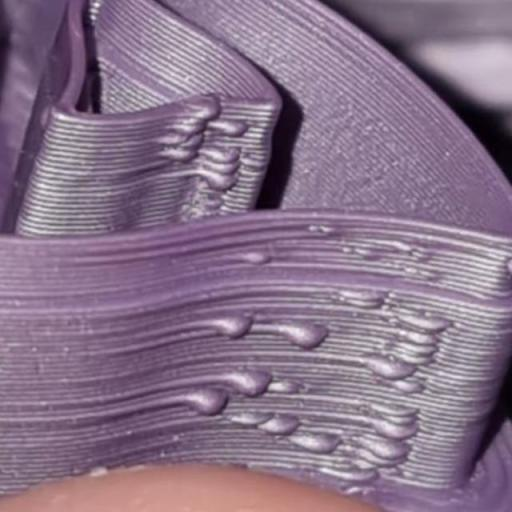blobs: (356, 439, 406, 475), (286, 316, 332, 354), (339, 283, 387, 317), (188, 386, 233, 422), (212, 307, 252, 342), (262, 371, 308, 401), (396, 333, 436, 365), (229, 368, 271, 398), (298, 429, 340, 459), (253, 413, 298, 440), (372, 356, 412, 386), (374, 418, 419, 444), (418, 307, 449, 339), (218, 114, 248, 142), (240, 247, 270, 273), (206, 146, 240, 168), (206, 172, 236, 194), (192, 96, 218, 120), (204, 158, 241, 174), (174, 143, 196, 167), (176, 116, 204, 134), (158, 127, 182, 147)
